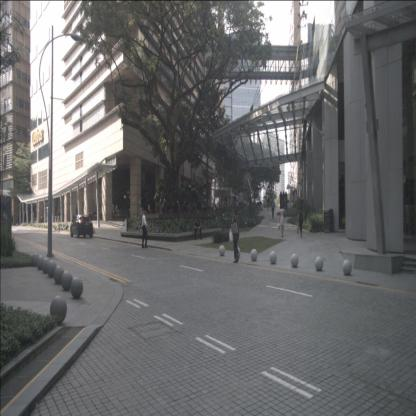human-pedestrian-adult: (230, 208, 240, 263), (142, 210, 150, 249), (278, 203, 286, 237), (297, 205, 303, 238), (194, 219, 202, 240), (270, 199, 276, 219), (112, 202, 117, 220), (116, 203, 121, 221), (272, 198, 276, 211), (236, 200, 239, 214), (268, 196, 270, 210), (270, 197, 272, 210), (12, 216, 14, 225)
vehicle-car: (70, 215, 93, 238)
